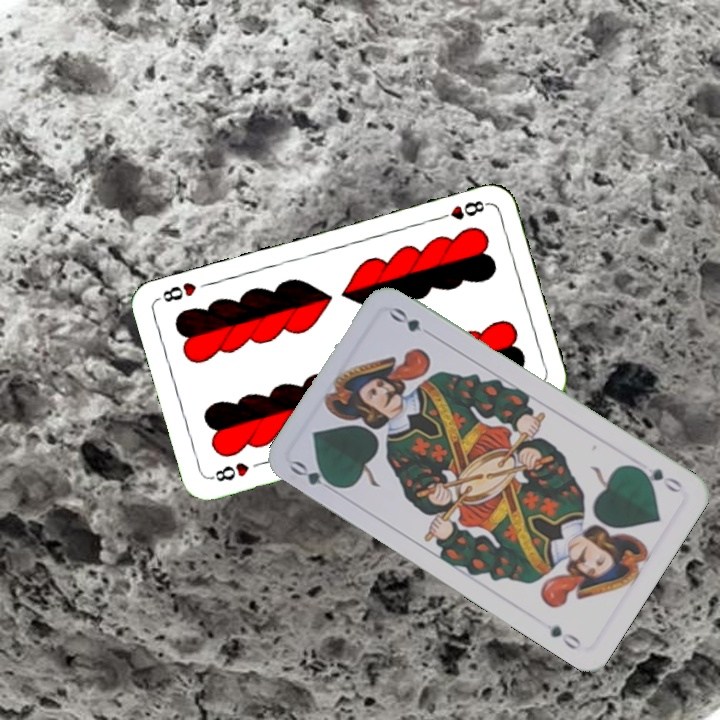GO: (286, 456, 343, 497), (630, 462, 685, 496)
H8: (433, 196, 491, 223), (207, 458, 252, 484)
